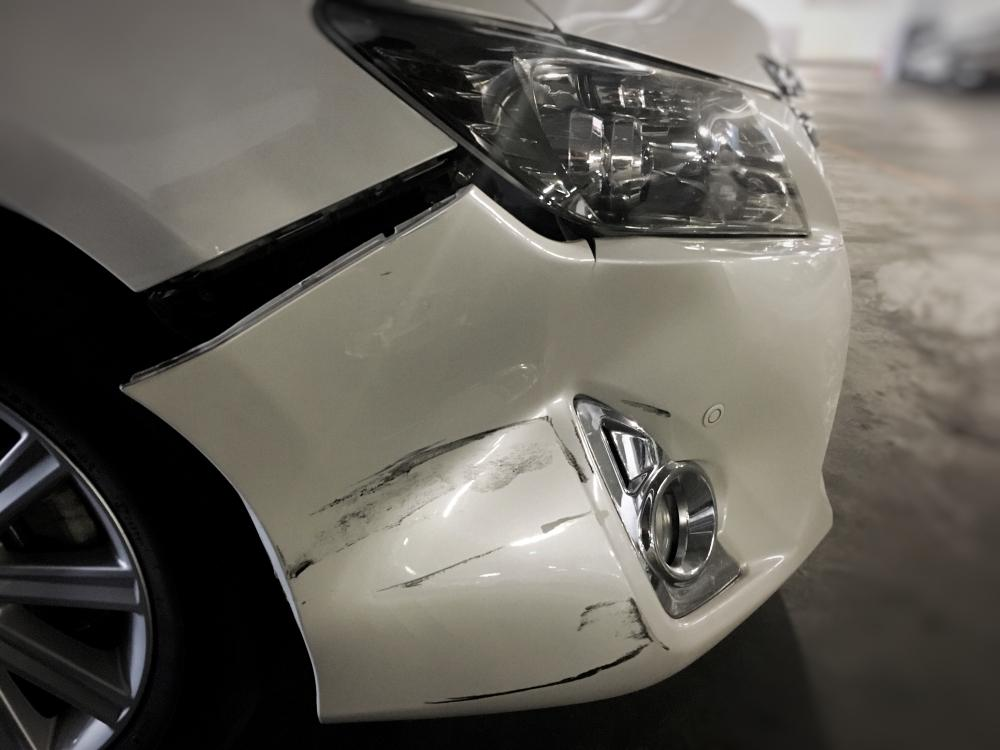crack: (584, 237, 598, 277)
scratch: (277, 408, 598, 587), (419, 590, 662, 711), (416, 502, 602, 588)
